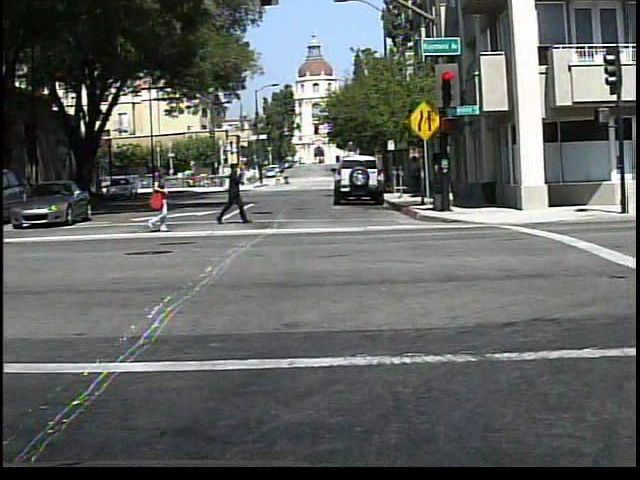person: (138, 160, 176, 236), (211, 158, 251, 228), (273, 169, 282, 189), (282, 170, 289, 188)
